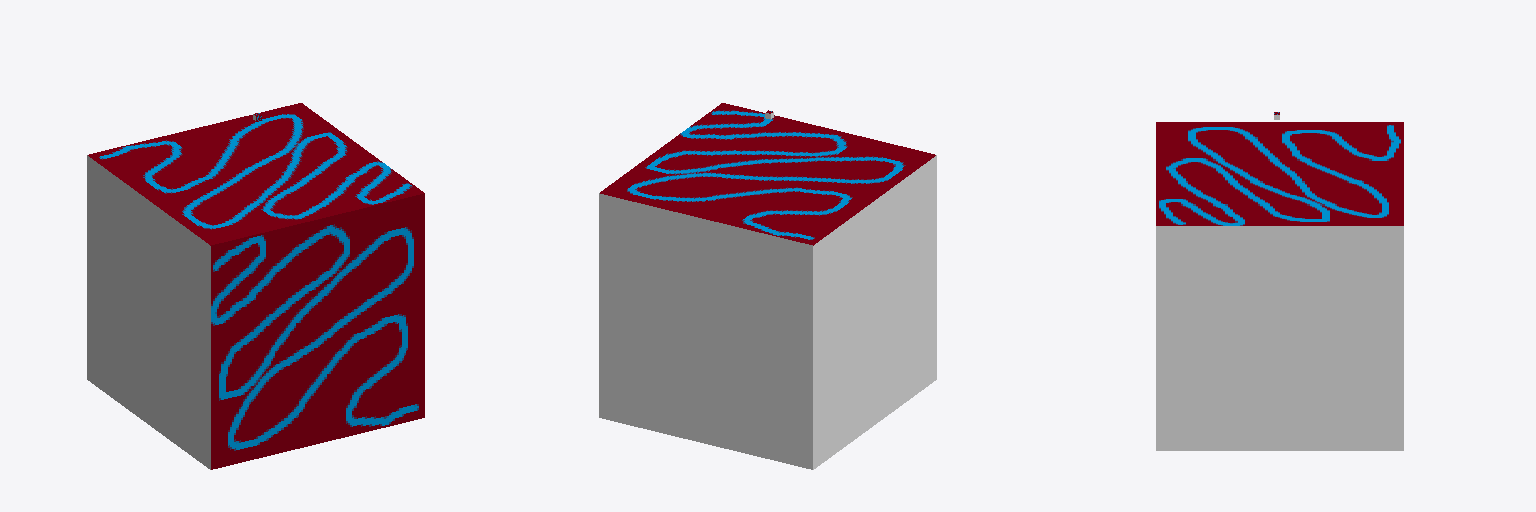
3 renders of one model, left to right at view 1: azimuth 30°, elevation 25°; view 2: azimuth 150°, elevation 25°; view 3: azimuth 270°, elevation 25°, orthographic.
Parts seen in each view (by area): view 1: Object.1; view 2: Object.1; view 3: Object.1.
Boxes of the visible parts, <box> form: Object.1: <box>87,103,424,469</box>; Object.1: <box>599,103,936,469</box>; Object.1: <box>1156,122,1403,450</box>.
Size of the model in its own units: 1 by 1.27 by 1.
2 materials, 1 textured.